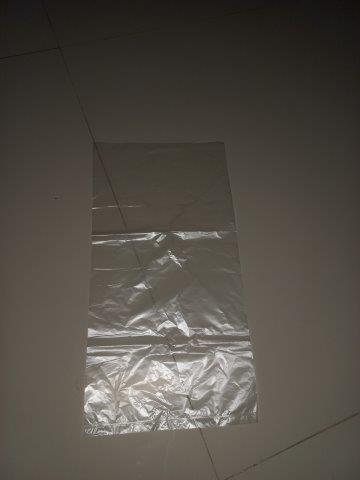plastik: (91, 143, 249, 425)
